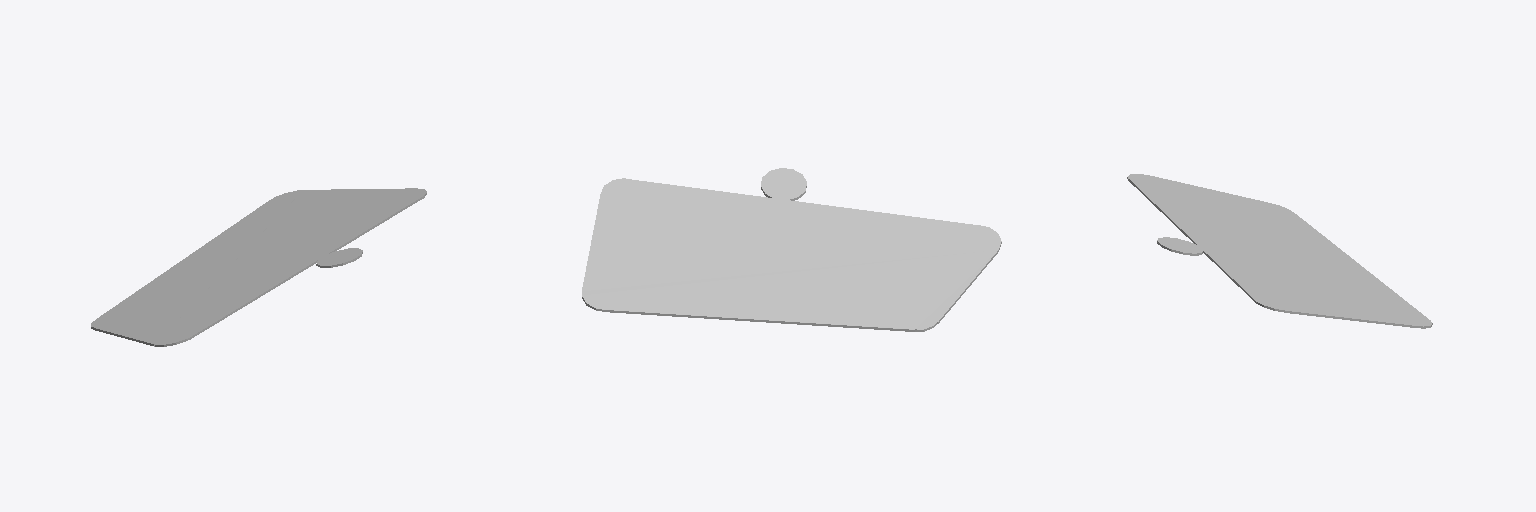
File: Havocglass8_left.obj
3 renders of one model, left to right at view 1: azimuth 30°, elevation 25°; view 2: azimuth 150°, elevation 25°; view 3: azimuth 270°, elevation 25°, orthographic.
Bounding box in the file's own units: 980 × 189 × 779.